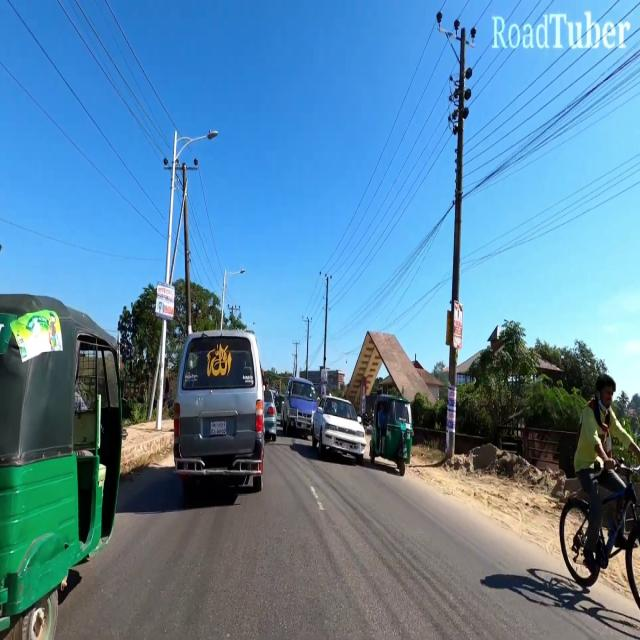blue: (282, 378, 312, 434)
silver: (173, 331, 263, 489)
white: (316, 396, 366, 459)
